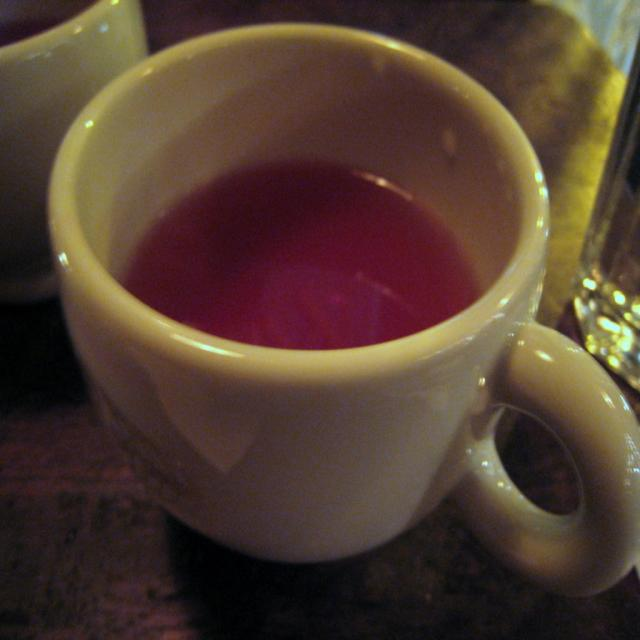Tea: (48, 21, 555, 568), (118, 157, 481, 352)
